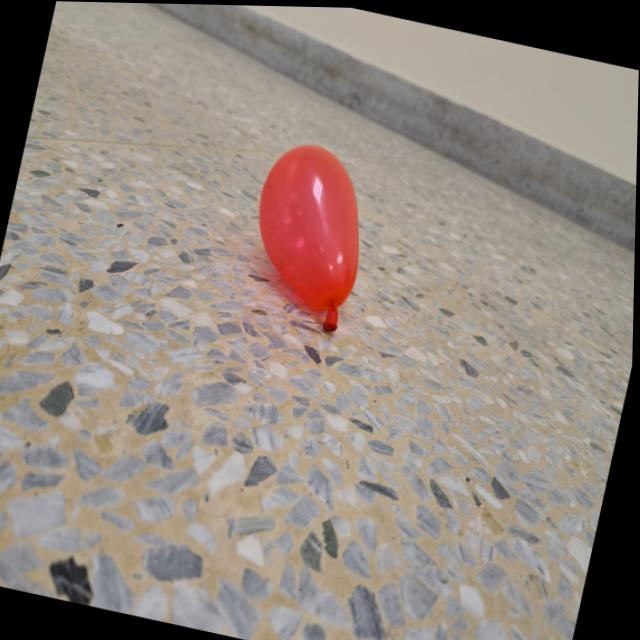red: (236, 134, 384, 336)
